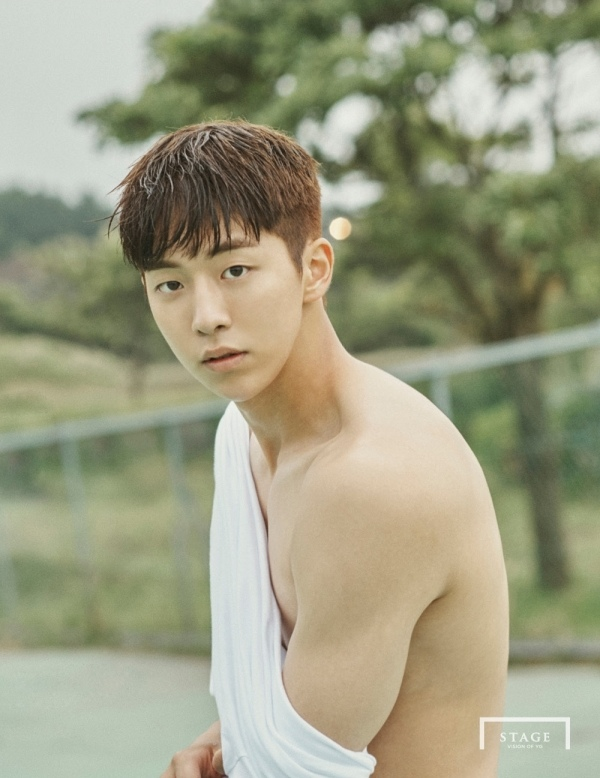people: (117, 122, 507, 778)
